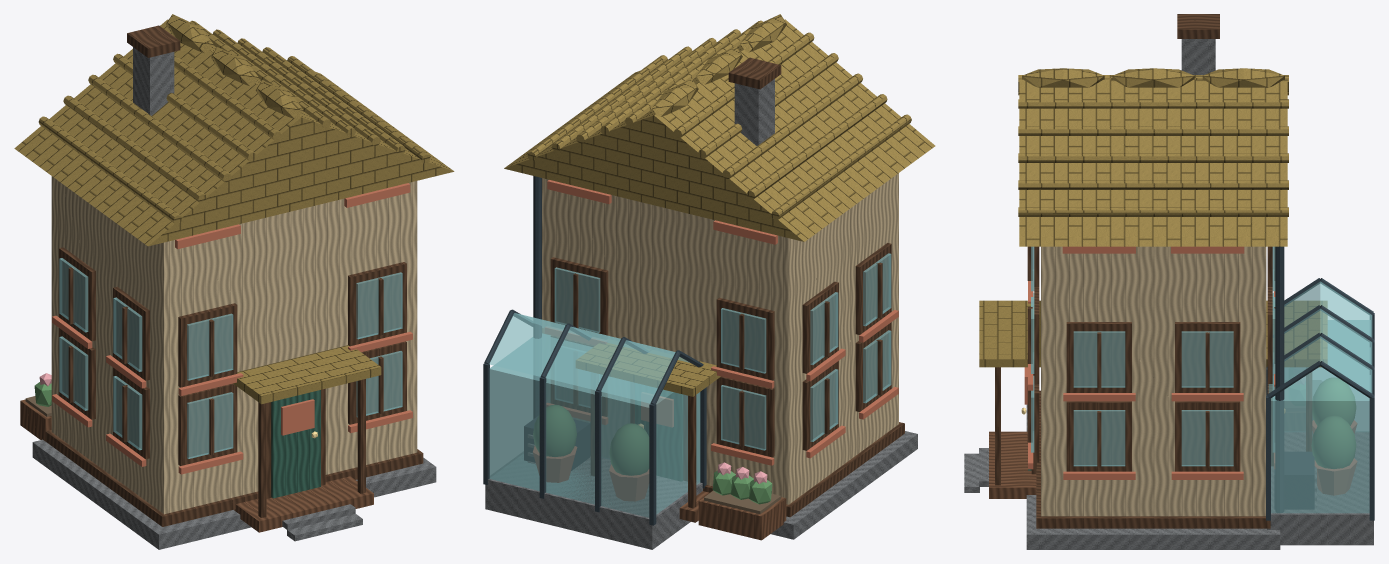
File: house_cottage_lv3_greenhouse.glb
The picture shows the model from 3 angles, left to right: view 1: azimuth 30°, elevation 25°; view 2: azimuth 150°, elevation 25°; view 3: azimuth 270°, elevation 25°; orthographic projection. The views are drawn at different scales.
Parts seen in each view (by area): view 1: walls, gable_roof, foundation, front_porch_canopy, front_door, floor_trim, front_window_frame.002, front_window_frame.003, front_window_frame, front_deck, front_window_frame.001, front_window_glass (+38 smaller); view 2: walls, gable_roof, greenhouse_glazing, greenhouse_plinth, greenhouse_roof, back_porch_canopy, back_window_frame.002, back_window_frame, back_window_frame.003, foundation, back_window_glass.003, back_garden_bed (+47 smaller); view 3: walls, gable_roof, greenhouse_glazing, greenhouse_roof, foundation, greenhouse_plinth, right_window_frame.002, right_window_frame.003, right_window_frame, right_window_frame.001, front_porch_canopy, floor_trim (+33 smaller).
Boxes of the visible parts, x1,y1,x2,y2 form: walls: (51, 176, 417, 514); gable_roof: (14, 19, 454, 246); foundation: (32, 439, 436, 549); front_porch_canopy: (233, 345, 381, 404); front_door: (271, 390, 320, 498); floor_trim: (45, 430, 423, 526); front_window_frame.002: (178, 303, 237, 387); front_window_frame.003: (348, 262, 406, 346); front_window_frame: (178, 383, 237, 465); front_deck: (234, 476, 373, 532); front_window_frame.001: (348, 341, 406, 424); front_window_glass: (187, 392, 233, 458); walls: (542, 173, 898, 504); gable_roof: (504, 19, 935, 241); greenhouse_glazing: (489, 333, 700, 517); greenhouse_plinth: (485, 456, 702, 549); greenhouse_roof: (489, 313, 689, 403); back_porch_canopy: (576, 343, 720, 396); back_window_frame.002: (716, 297, 774, 380); back_window_frame: (716, 376, 774, 457); back_window_frame.003: (550, 257, 608, 335); foundation: (771, 431, 917, 539); back_window_glass.003: (554, 267, 600, 332); back_garden_bed: (698, 491, 786, 540); walls: (1041, 246, 1266, 516); gable_roof: (1019, 79, 1287, 246); greenhouse_glazing: (1271, 320, 1370, 513); greenhouse_roof: (1268, 281, 1372, 392); foundation: (1026, 404, 1280, 549); greenhouse_plinth: (1267, 432, 1373, 545); right_window_frame.002: (1066, 322, 1131, 392); right_window_frame.003: (1175, 322, 1240, 392); right_window_frame: (1066, 401, 1131, 471); right_window_frame.001: (1175, 401, 1240, 471); front_porch_canopy: (979, 300, 1040, 367); floor_trim: (1036, 390, 1270, 528).
Size of the model in its own units: 3.15 by 4.22 by 3.64.
13 materials, 7 textured.
